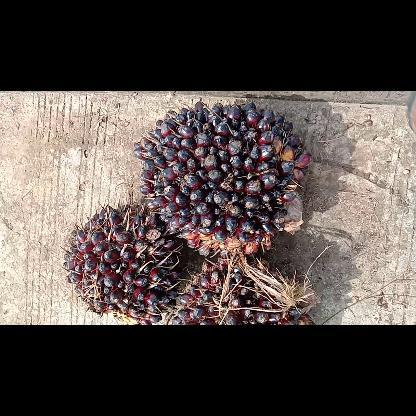TBS mentah: (130, 97, 312, 257), (61, 200, 184, 324), (165, 258, 319, 324)
